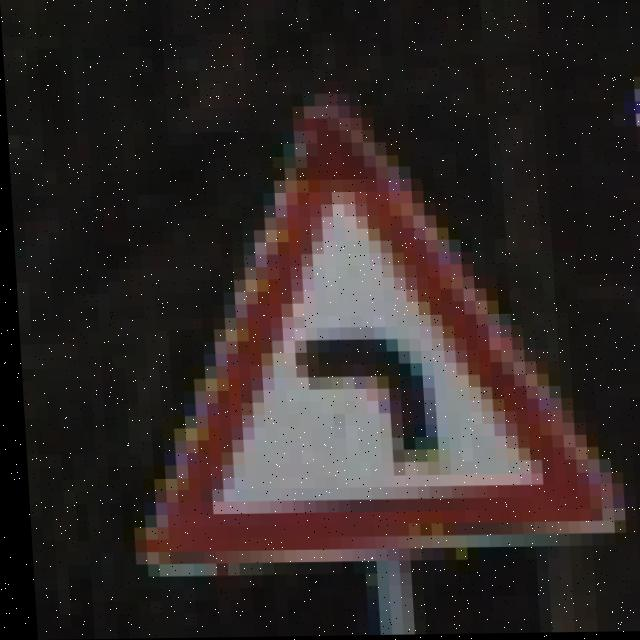left_turn: (120, 122, 626, 543)
